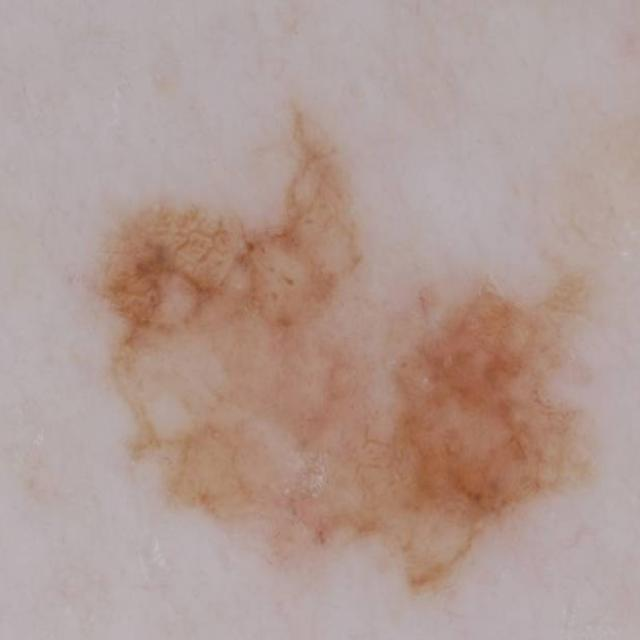Melanoma: (39, 68, 633, 634)
